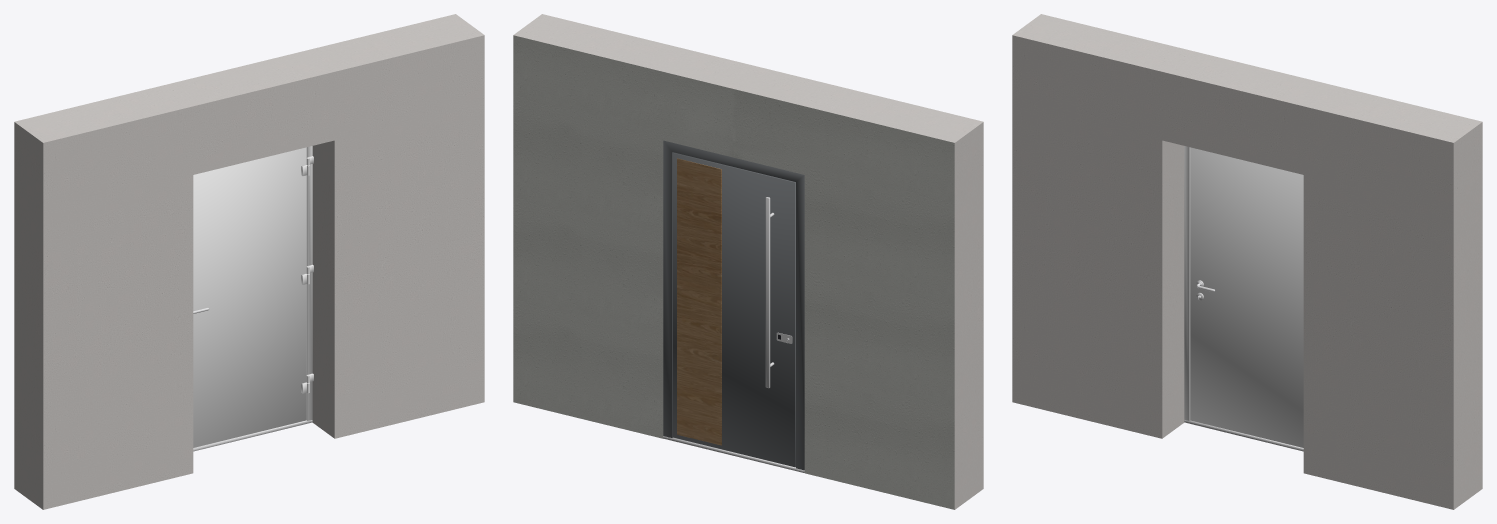
The model's file is haustuer.glb.
The picture shows the model from 3 angles, left to right: view 1: azimuth 30°, elevation 25°; view 2: azimuth 150°, elevation 25°; view 3: azimuth 330°, elevation 25°; orthographic projection.
Visible parts, largest first — view 1: Wand, Tuerblatt, Rahmen; view 2: Wand, Tuerblatt, Dekorplatte, Rahmen, Stossgriff, Schwelle; view 3: Wand, Tuerblatt, Rahmen.
Boxes of the visible parts, x1,y1,x2,y2 form: Wand: [14, 14, 484, 509]; Tuerblatt: [193, 147, 306, 447]; Rahmen: [306, 146, 312, 420]; Wand: [513, 14, 983, 509]; Tuerblatt: [673, 152, 795, 467]; Dekorplatte: [677, 158, 721, 445]; Rahmen: [663, 140, 804, 470]; Stossgriff: [765, 197, 774, 388]; Schwelle: [663, 436, 804, 472]; Wand: [1012, 14, 1482, 509]; Tuerblatt: [1190, 147, 1303, 447]; Rahmen: [1184, 146, 1190, 420].
Size of the model in its own units: 3.4 by 2.7 by 0.461.
10 materials, 3 textured.
